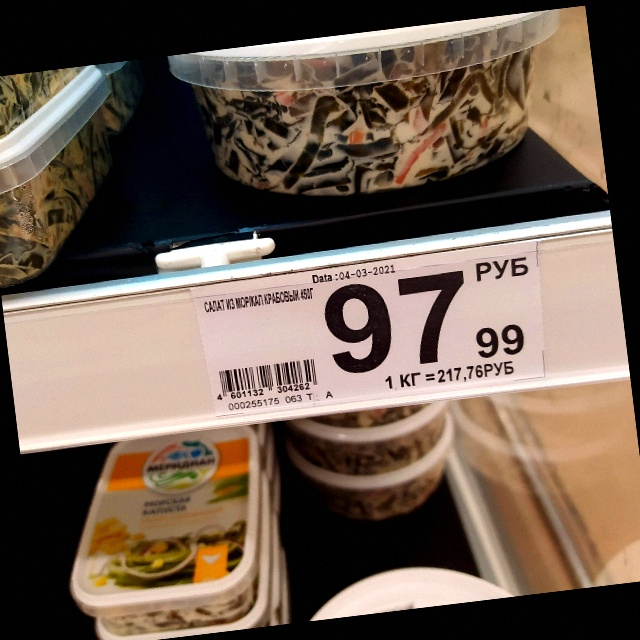barcode: (213, 359, 320, 401)
name: (205, 287, 317, 316)
price: (324, 270, 528, 376)
price_tag: (198, 240, 539, 416)
